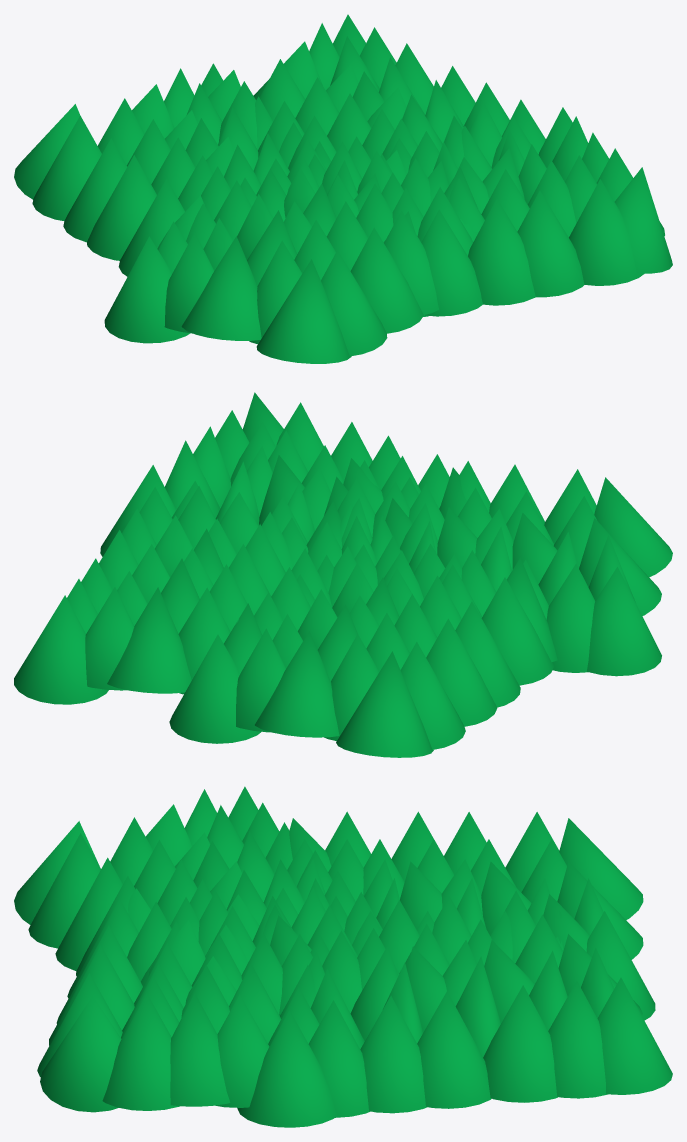
The model's file is Grass s.fbx.
3 views of the same model, one above another, from view 1: azimuth 30°, elevation 25°; view 2: azimuth 150°, elevation 25°; view 3: azimuth 270°, elevation 25° (orthographic). The views are drawn at different scales.
Parts seen in each view (by area): view 1: polySurface35; view 2: polySurface35; view 3: polySurface35.
Boxes of the visible parts, <box> form: polySurface35: <box>14,14,672,363</box>; polySurface35: <box>14,392,672,757</box>; polySurface35: <box>14,786,672,1127</box>.
Bounding box in the file's own units: 4.77 × 0.9532 × 4.78.
